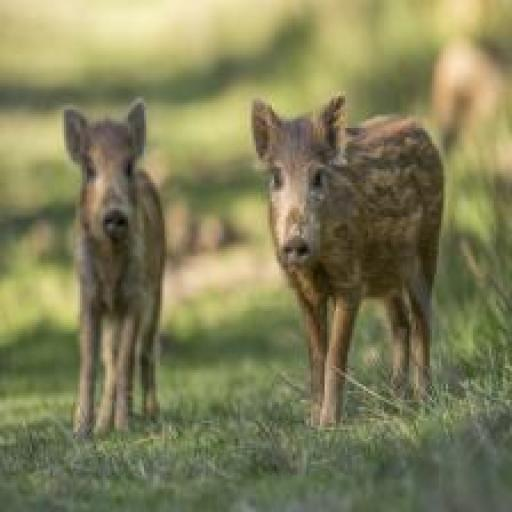Pig: (252, 96, 442, 430), (64, 105, 167, 433)
